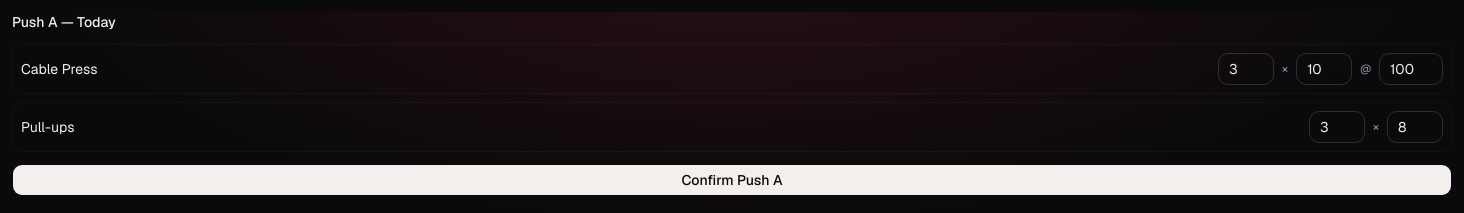
it: SessionDetailPanel › confirming flips to the confirmed note without a page reload (local state)
The width and height of the screenshot is (1464, 213).
Step 1. Click the button "Confirm Push A" → (732, 180), box [12,164,1452,196]
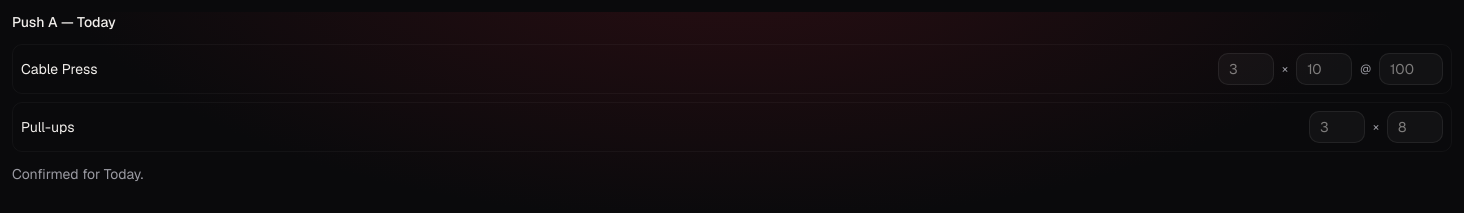
Expected: the text "Confirmed for Today." is shown, [12,165,143,183]
